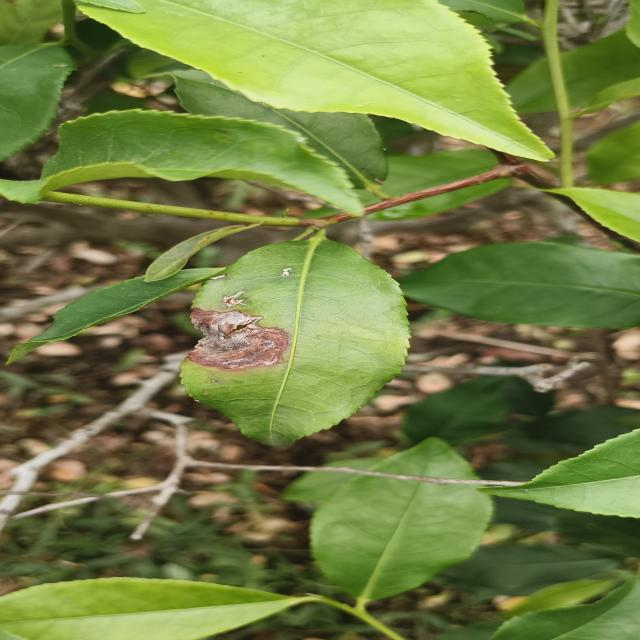Leaf: (82, 0, 552, 161), (181, 234, 408, 446), (2, 110, 361, 213), (160, 67, 387, 195), (310, 476, 492, 603), (398, 242, 640, 328), (6, 268, 221, 364), (0, 578, 306, 640), (478, 430, 640, 517), (437, 545, 620, 599), (490, 579, 640, 640), (0, 44, 74, 161), (402, 377, 510, 445), (561, 30, 640, 108), (371, 179, 509, 221), (382, 150, 496, 197), (548, 188, 640, 242), (372, 438, 474, 478), (586, 121, 640, 184), (507, 60, 555, 113)
